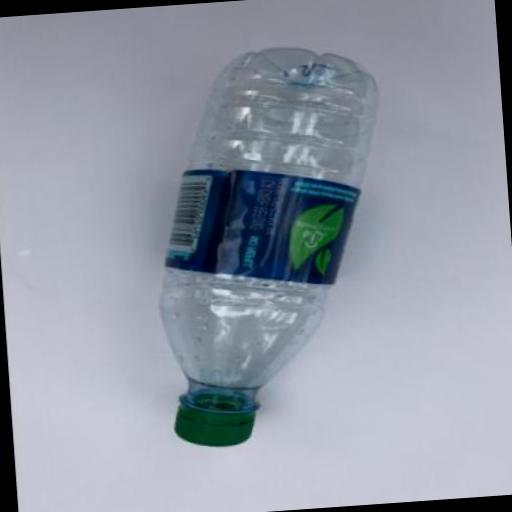plastic: (143, 43, 404, 452), (154, 159, 368, 298), (172, 387, 262, 451)
